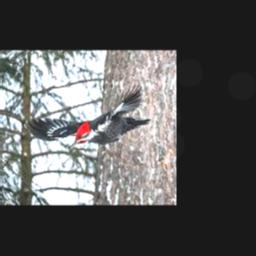Woodpecker: (24, 84, 149, 148)
